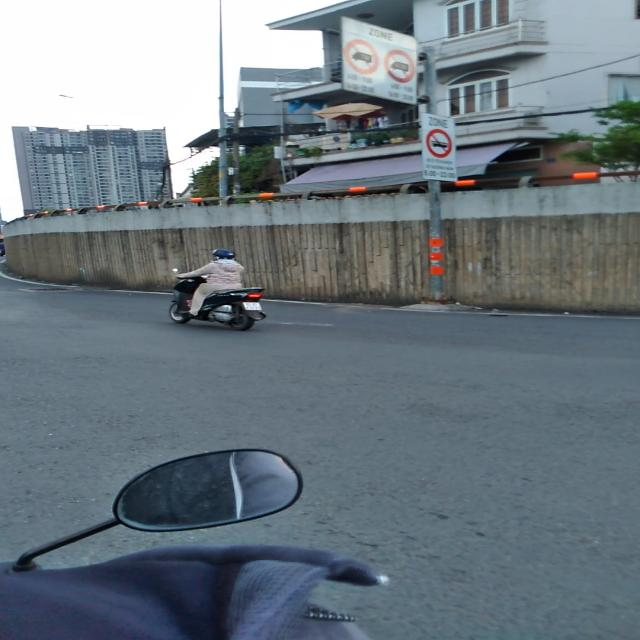Cam con lai: (426, 129, 453, 158)
Chieu cao toi da: (344, 39, 378, 75), (384, 49, 416, 83)
